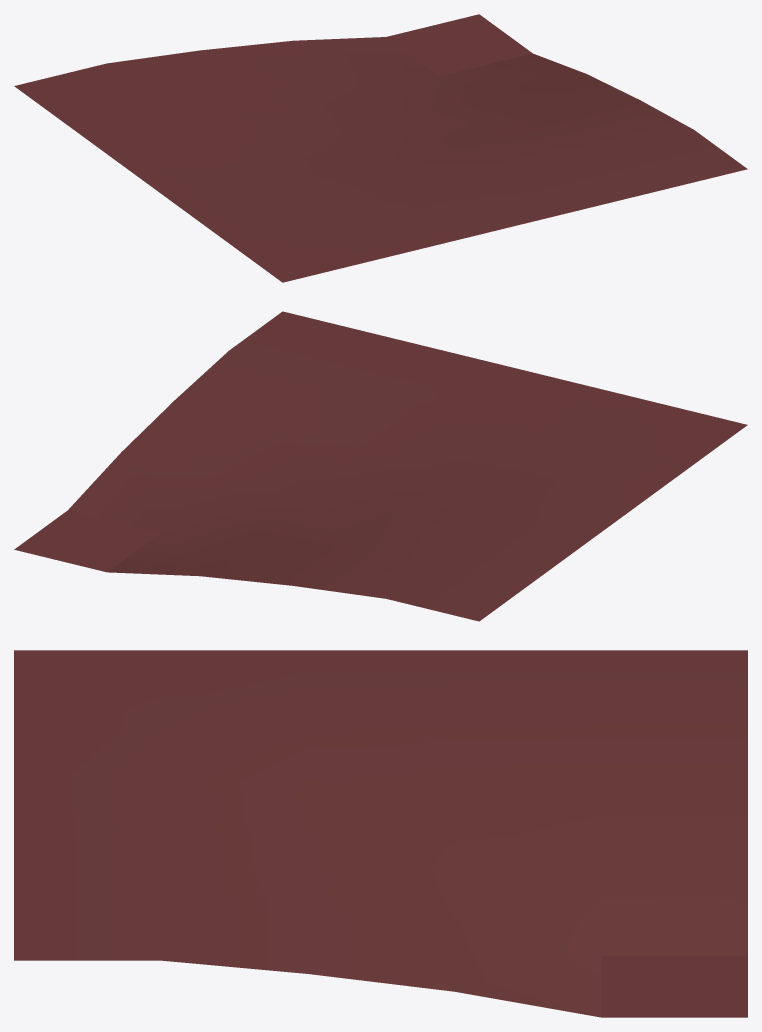
Rendered from calleCalleEsquina.fbx.
The picture shows the model from 3 angles, top to bottom: view 1: azimuth 30°, elevation 25°; view 2: azimuth 150°, elevation 25°; view 3: azimuth 270°, elevation 25°; orthographic projection. The views are drawn at different scales.
Visible parts, largest first — view 1: CalleEsquina; view 2: CalleEsquina; view 3: CalleEsquina.
Boxes of the visible parts, box(x1,y1,x2,y2) form: CalleEsquina: box(14, 14, 747, 282); CalleEsquina: box(14, 311, 747, 621); CalleEsquina: box(14, 650, 747, 1017).
Size of the model in its own units: 0.05 by 0.00428 by 0.05.
